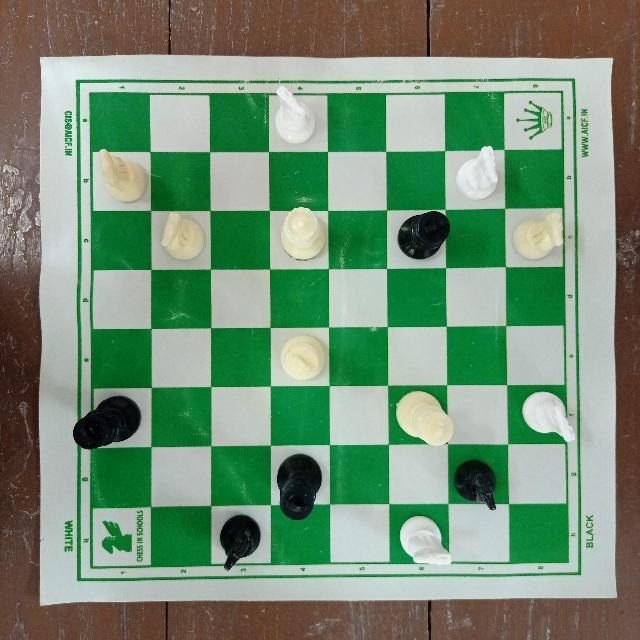black-king: (62, 392, 146, 456), (276, 447, 331, 525), (396, 205, 452, 266)
black-knight: (214, 509, 266, 578), (454, 457, 505, 512)
white-king: (394, 386, 456, 454), (271, 330, 330, 385)
white-knight: (392, 504, 452, 573), (515, 384, 578, 447), (508, 208, 567, 266), (94, 146, 150, 204), (448, 145, 502, 205), (270, 82, 318, 148), (155, 209, 207, 266)
white-queen: (275, 201, 327, 262)
